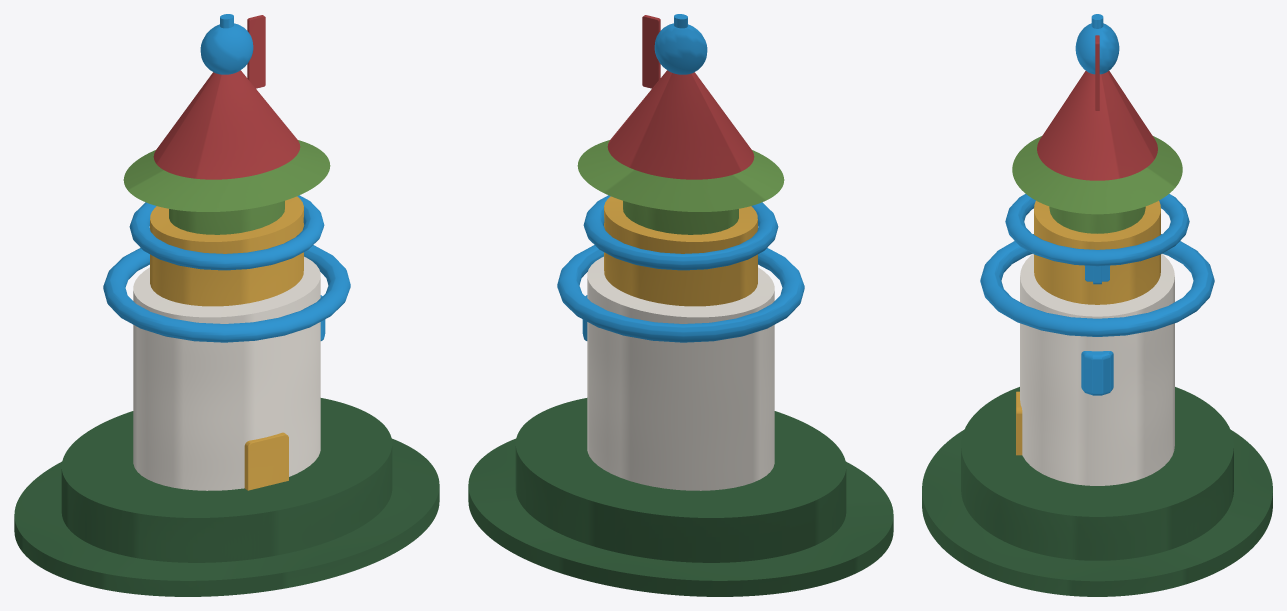
Rendered from 0910_故宫图鉴_畅音阁.glb.
3 views of the same model, side by side, from view 1: azimuth 30°, elevation 25°; view 2: azimuth 150°, elevation 25°; view 3: azimuth 270°, elevation 25° (orthographic). The views are drawn at different scales.
Visible parts, largest first — view 1: card_0910; view 2: card_0910; view 3: card_0910.
Part boxes in pixels (x1,y1,x2,y2): card_0910: (14, 14, 439, 596); card_0910: (468, 14, 893, 596); card_0910: (922, 14, 1272, 596).
Bounding box in the file's own units: 0.8072 × 1 × 0.6517.
